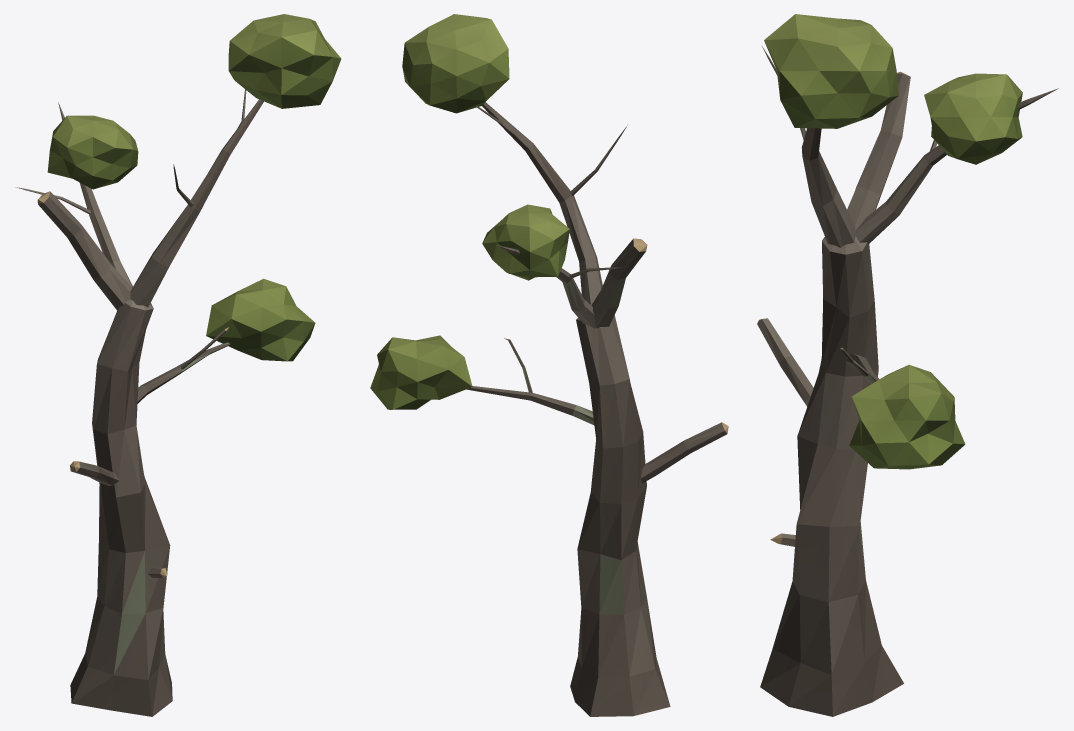
The model's file is dead_tree_01.glb.
3 renders of one model, left to right at view 1: azimuth 30°, elevation 25°; view 2: azimuth 150°, elevation 25°; view 3: azimuth 270°, elevation 25°, orthographic. The views are drawn at different scales.
Visible parts, largest first — view 1: dead_tree_01_bark, dead_tree_01_foliage; view 2: dead_tree_01_bark, dead_tree_01_foliage; view 3: dead_tree_01_bark, dead_tree_01_foliage.
Part boxes in pixels (x1,y1,x2,y2): dead_tree_01_bark: (15,89,263,716); dead_tree_01_foliage: (47,14,341,361); dead_tree_01_bark: (466,102,728,716); dead_tree_01_foliage: (370,14,569,409); dead_tree_01_bark: (757,45,1058,716); dead_tree_01_foliage: (764,14,1022,469).
Size of the model in its own units: 4.18 by 8.71 by 3.16.
